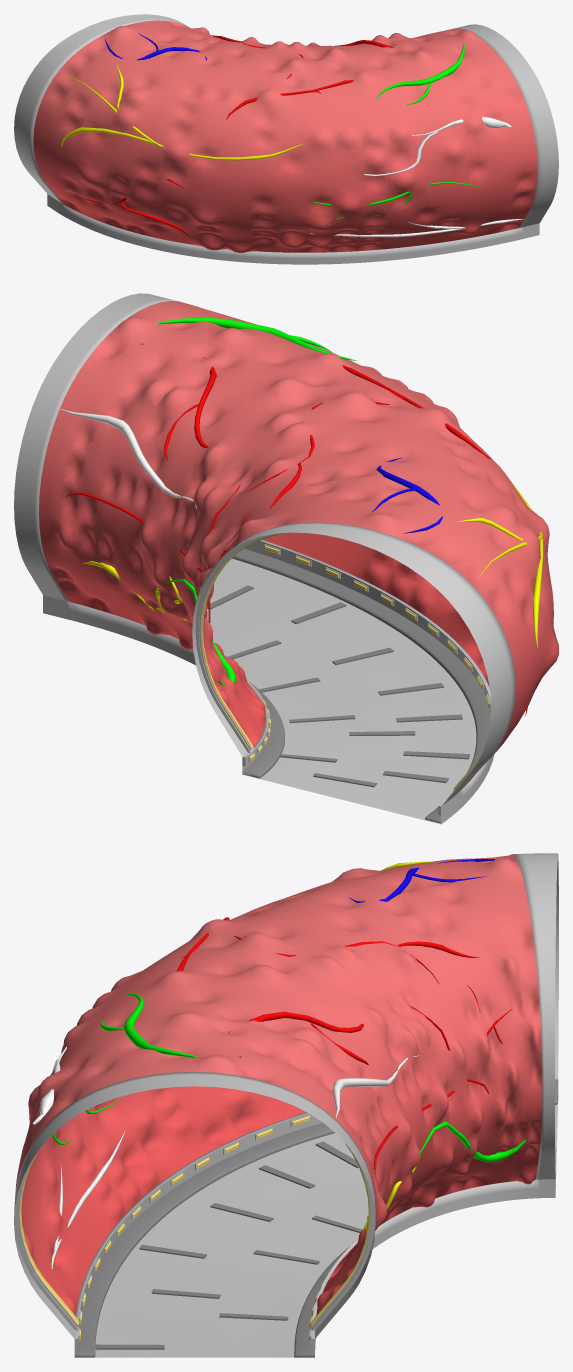
The model's file is Terowongan_3_Kanan.fbx.
3 renders of one model, top to bottom at view 1: azimuth 30°, elevation 25°; view 2: azimuth 150°, elevation 25°; view 3: azimuth 270°, elevation 25°, orthographic. The views are drawn at different scales.
Visible parts, largest first — view 1: Terowongan 3_Kanan; view 2: Terowongan 3_Kanan; view 3: Terowongan 3_Kanan.
Boxes of the visible parts, x1,y1,x2,y2 form: Terowongan 3_Kanan: (14,14,558,264); Terowongan 3_Kanan: (14,293,558,824); Terowongan 3_Kanan: (14,853,558,1357).
Size of the model in its own units: 989 by 450 by 794.
4 materials, 4 textured.
